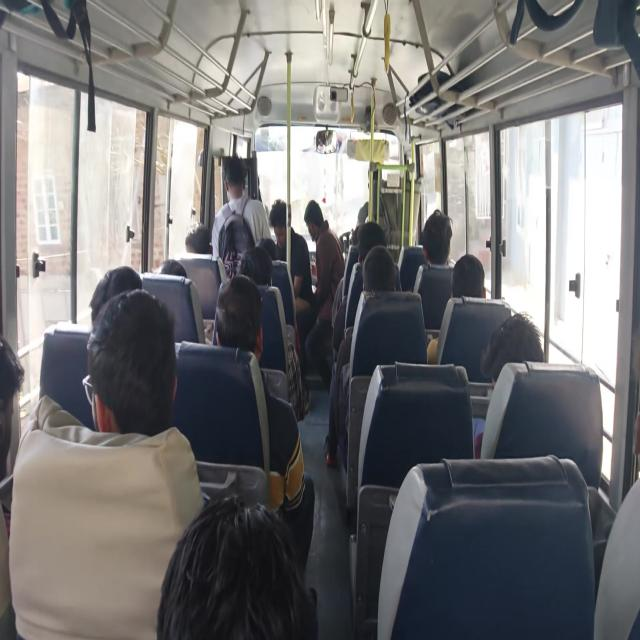person: (156, 494, 315, 639), (85, 287, 179, 438), (481, 311, 546, 385), (0, 335, 25, 509), (214, 272, 263, 358), (89, 266, 142, 327), (419, 209, 453, 267), (362, 243, 398, 295), (451, 252, 485, 298), (239, 243, 273, 287), (356, 220, 386, 266), (226, 170, 254, 213), (185, 224, 212, 255), (348, 205, 366, 249), (256, 236, 278, 265), (158, 258, 188, 279), (304, 199, 323, 226), (269, 200, 287, 228), (357, 202, 369, 228)
